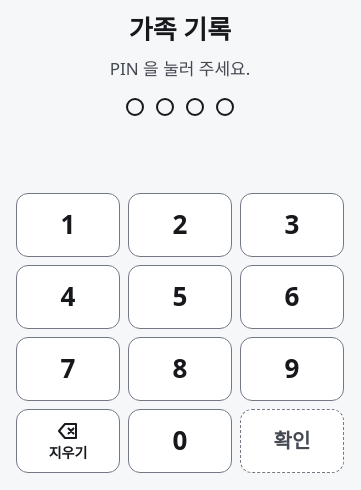
Test case: PinScreen › shows the wrong-PIN message and clears the input
Type keys "9999"
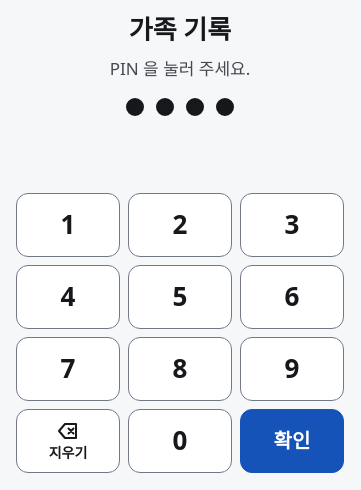
Click the button "확인": {"x": 292, "y": 441} [240,409,344,473]
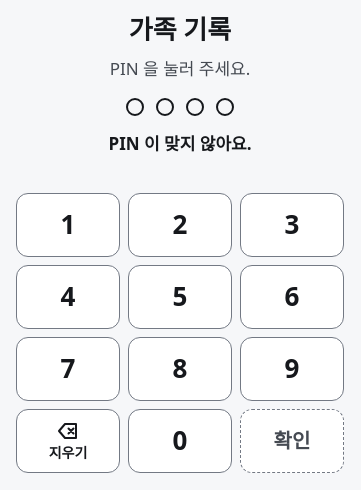
Result: the text "PIN 이 맞지 않아요." is shown at [108,132,252,155]
